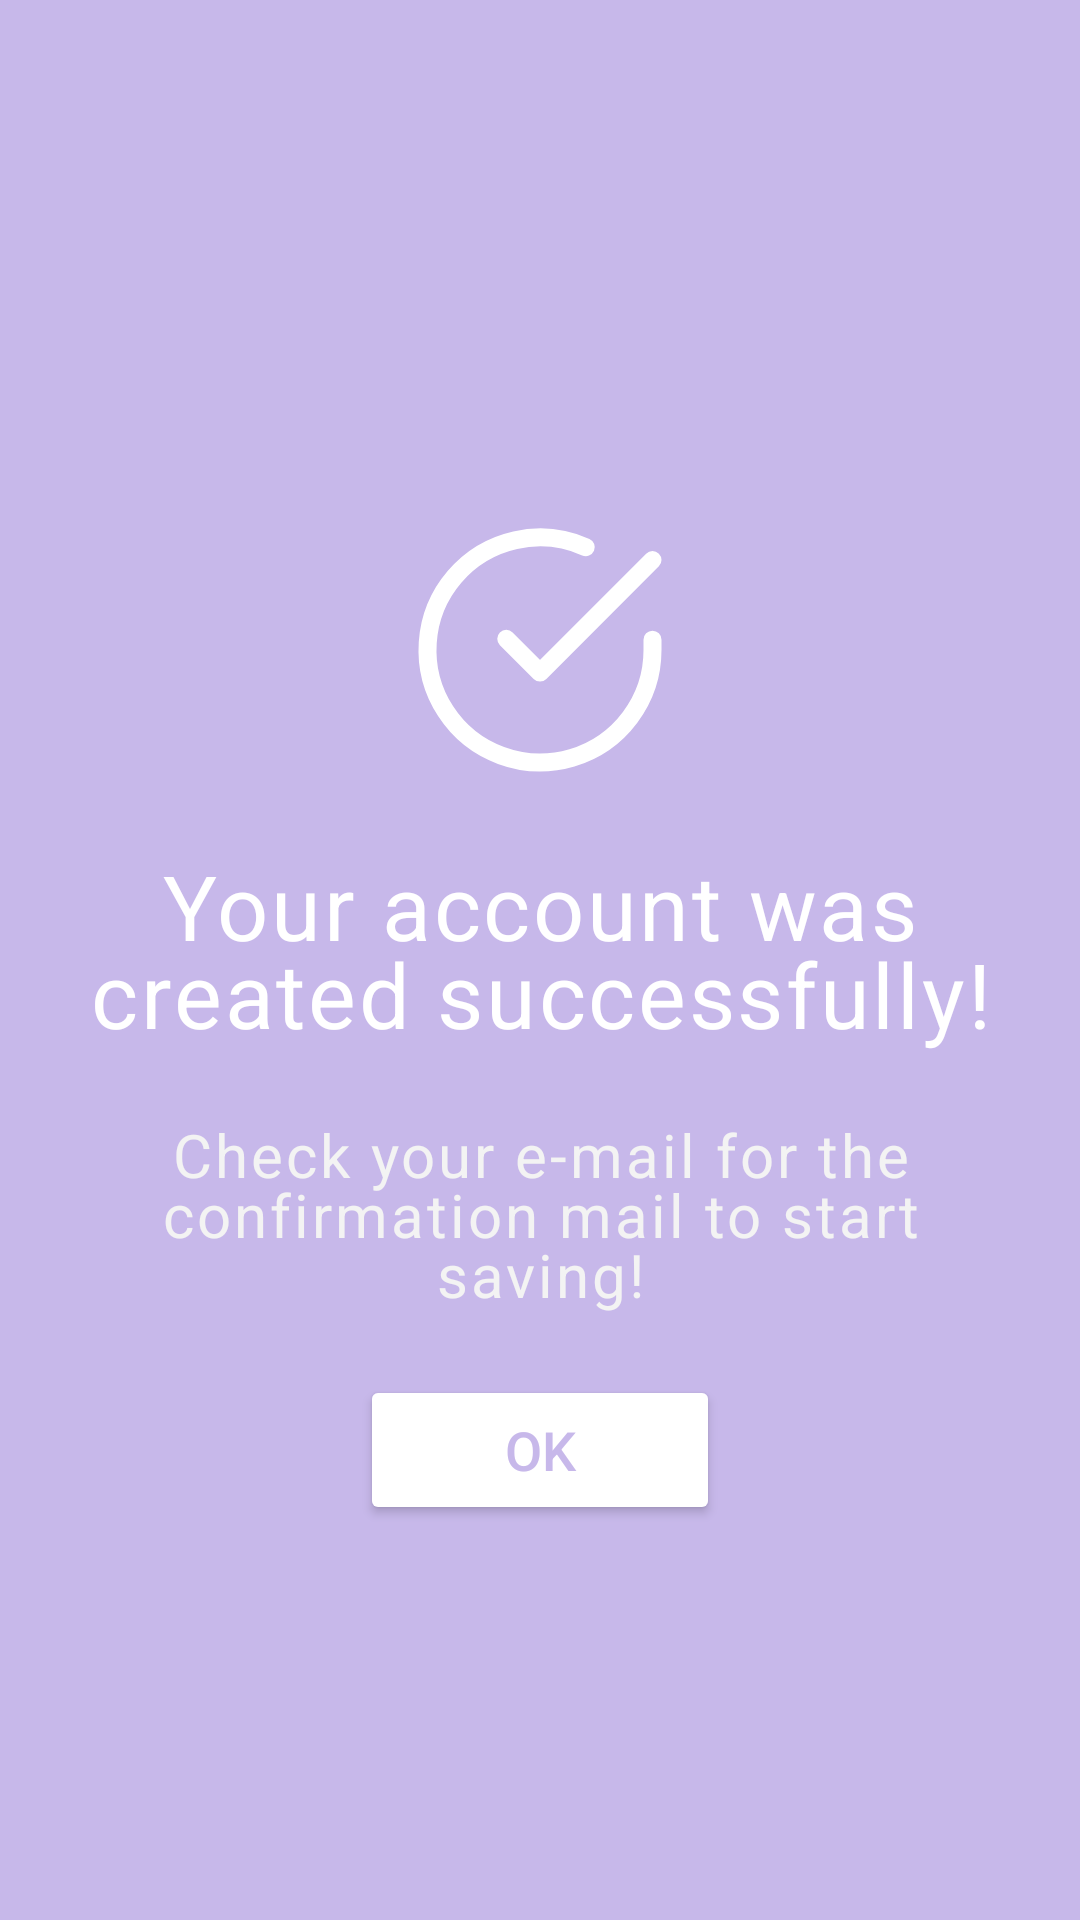

Screen size 1080×1920. Icon name, then its box in pixels as (x1, y1, x2, y2):
check circle: (418, 528, 662, 772)
